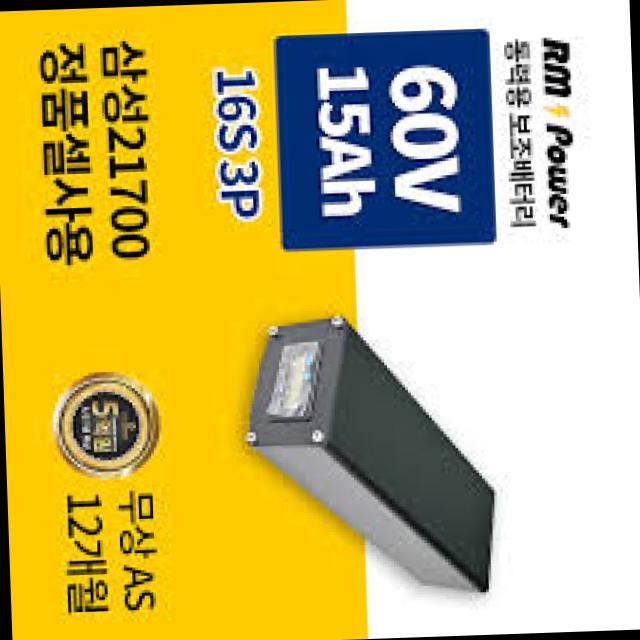portable-charger: (233, 311, 503, 602)
